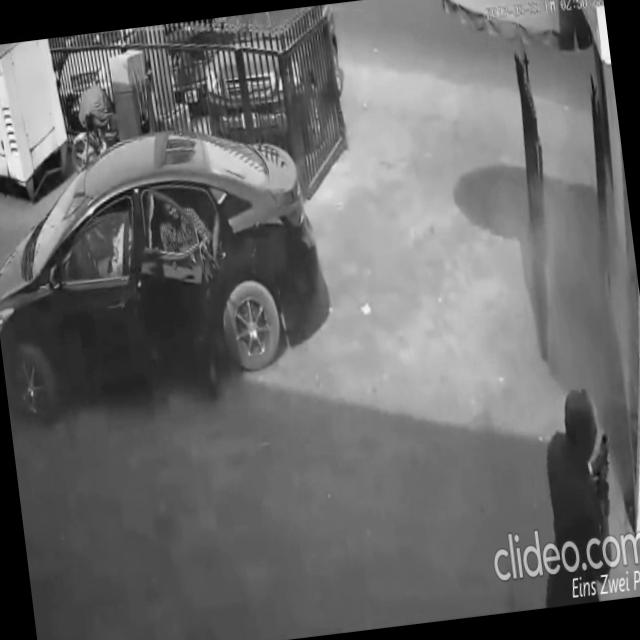gun: (178, 222, 230, 288), (587, 426, 619, 514)
person with a gun: (518, 380, 630, 608), (153, 185, 243, 398)
